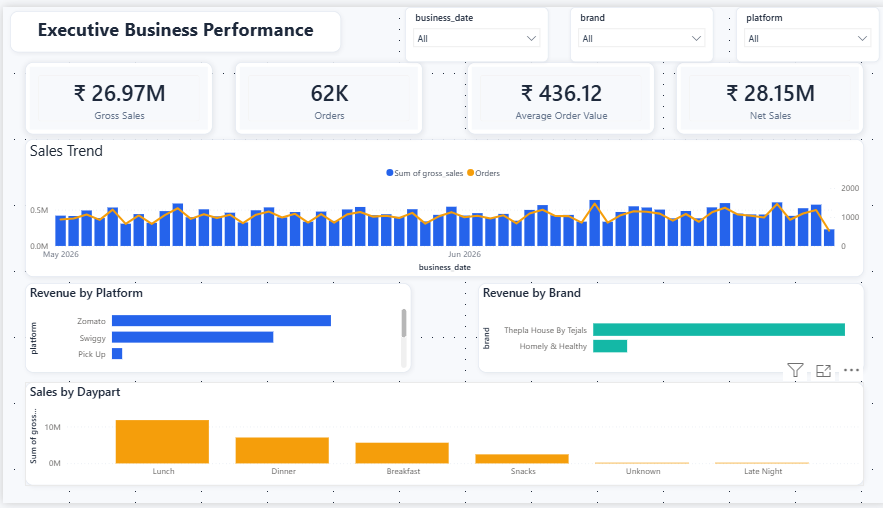

The page's visual inventory and layout, read from the dashboard file:
{"tool":"powerbi","page":{"name":"Executive Business Performance","canvas":[1280,720],"ordinal":0},"visuals":[{"type":"cardVisual","fields":{"Data":["Table.Gross Sales"]},"box":[32,80,272,105],"z":0},{"type":"lineClusteredColumnComboChart","title":"Sales Trend","fields":{"Category":["vw_daily_sales.business_date"],"Y":["Sum(vw_daily_sales.gross_sales)"],"Y2":["Table.Orders"]},"box":[32,192,1216,200],"z":0},{"type":"cardVisual","fields":{"Data":["Table.Orders"]},"box":[336,80,272,105],"z":1000},{"type":"clusteredBarChart","title":"Revenue by Platform","fields":{"Category":["vw_platform_performance.platform"],"Y":["Sum(vw_platform_performance.net_sales)"]},"box":[32,400,560,130],"z":1000},{"type":"cardVisual","fields":{"Data":["Table.Net Sales"]},"box":[976,80,272,105],"z":2000},{"type":"clusteredBarChart","title":"Revenue by Brand","fields":{"Category":["vw_brand_performance.brand"],"Y":["Sum(vw_brand_performance.net_sales)"]},"box":[688,400,560,130],"z":2000},{"type":"cardVisual","fields":{"Data":["Table.Average Order Value"]},"box":[672,80,272,105],"z":3000},{"type":"columnChart","title":"Sales by Daypart","fields":{"Category":["vw_daypart_sales.daypart"],"Y":["Sum(vw_daypart_sales.gross_sales)"]},"box":[32,544,1216,150],"z":3000},{"type":"slicer","fields":{"Values":["dim_date.business_date"]},"box":[582,0,208,80],"z":4000},{"type":"slicer","fields":{"Values":["dim_brand.brand"]},"box":[822,0,208,80],"z":5000},{"type":"slicer","fields":{"Values":["dim_platform.platform"]},"box":[1062,0,208,80],"z":6000},{"type":"textbox","box":[10,6,480,60],"z":7000}]}

Visuals, with their boxes in screenshot pixels (x1, y1, x2, y2), scaled from the page's 1280x720 canvas onto the 883x508 screenshot:
cardVisual - Table.Gross Sales: (left=22, top=56, right=210, bottom=131)
"Sales Trend" lineClusteredColumnComboChart: (left=22, top=135, right=861, bottom=277)
cardVisual - Table.Orders: (left=232, top=56, right=419, bottom=131)
"Revenue by Platform" clusteredBarChart: (left=22, top=282, right=408, bottom=374)
cardVisual - Table.Net Sales: (left=673, top=56, right=861, bottom=131)
"Revenue by Brand" clusteredBarChart: (left=475, top=282, right=861, bottom=374)
cardVisual - Table.Average Order Value: (left=464, top=56, right=651, bottom=131)
"Sales by Daypart" columnChart: (left=22, top=384, right=861, bottom=490)
slicer - dim_date.business_date: (left=401, top=0, right=545, bottom=56)
slicer - dim_brand.brand: (left=567, top=0, right=711, bottom=56)
slicer - dim_platform.platform: (left=733, top=0, right=876, bottom=56)
textbox: (left=7, top=4, right=338, bottom=47)
